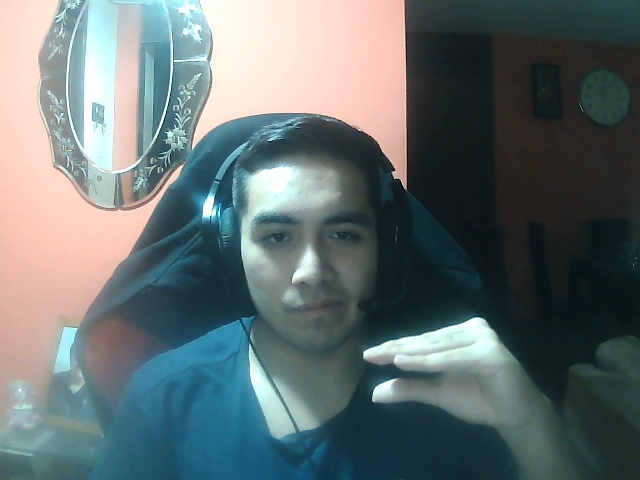no: (362, 309, 561, 434)
